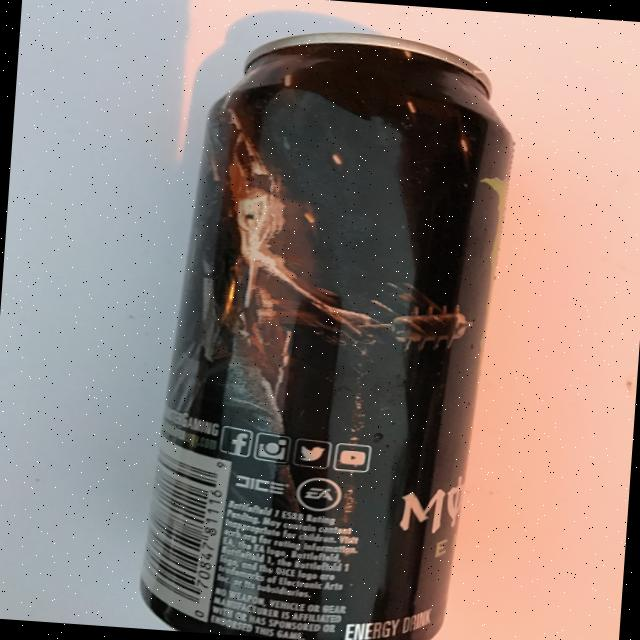metal: (136, 19, 521, 640)
